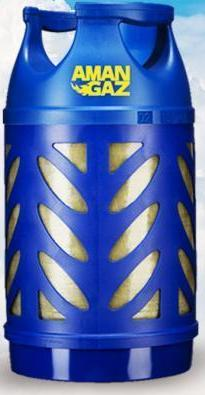cylinder: (0, 1, 205, 395)
